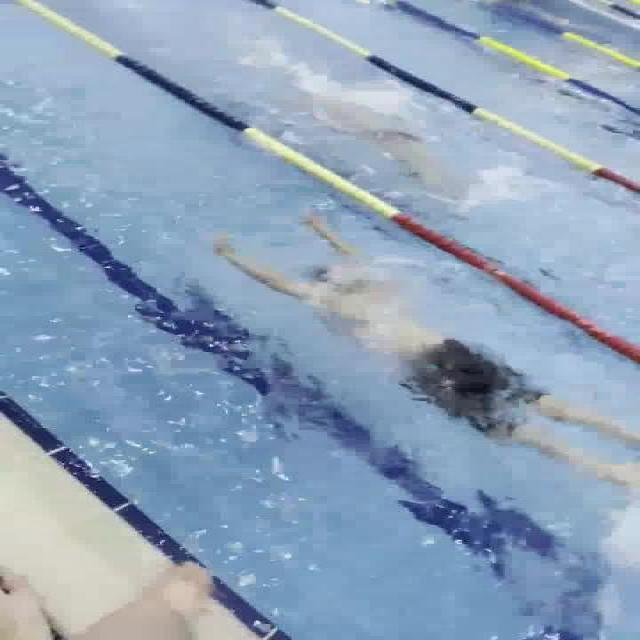Swimming: (214, 209, 640, 484)
